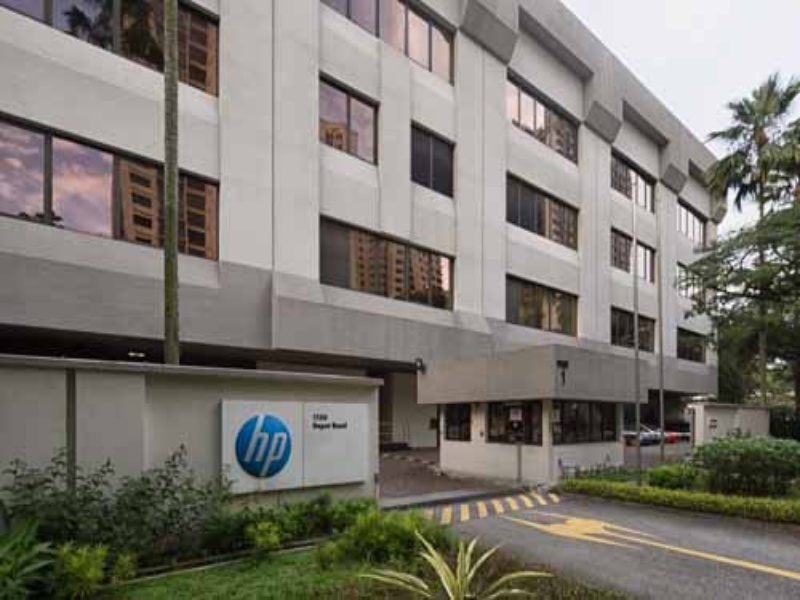hp: (242, 408, 288, 480)
